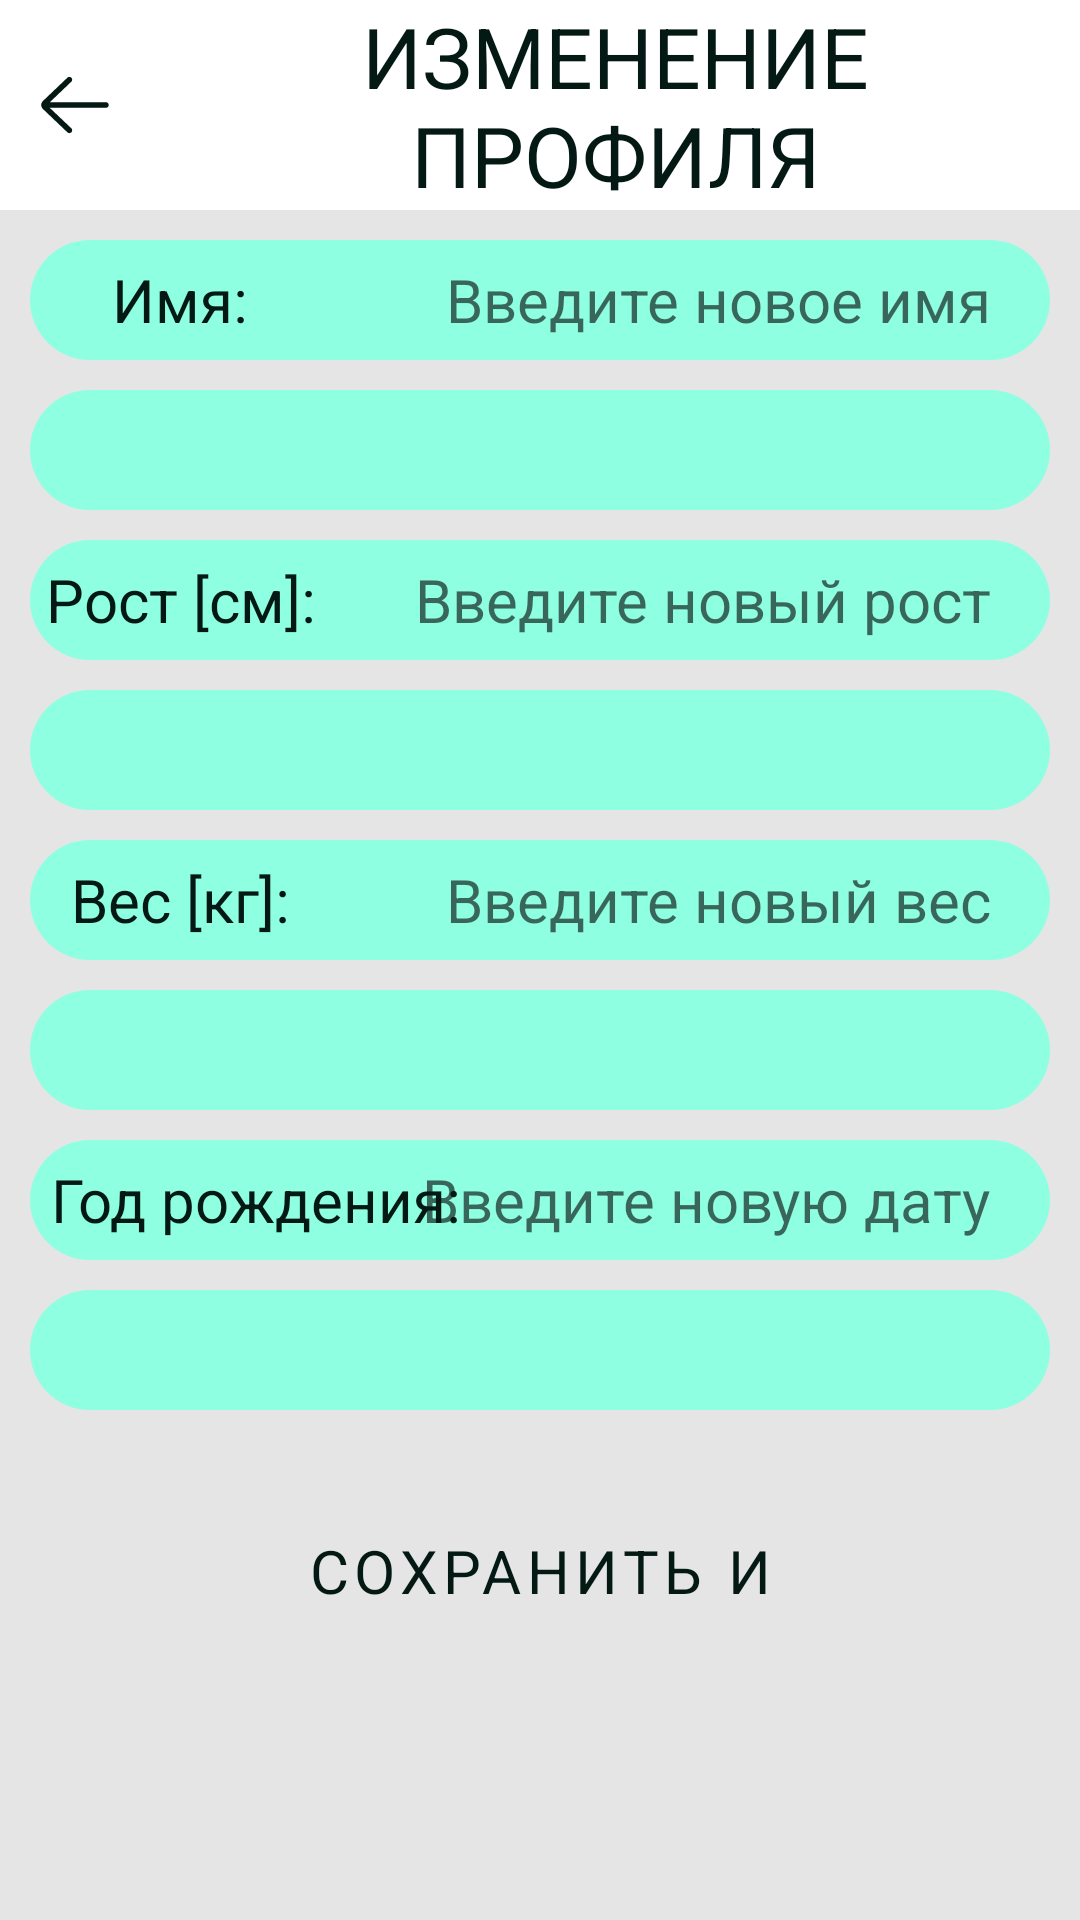

Icons on this 1080x1920 Android screen, each with its box as (x1=x1, y1=y1, x2=x2, y2=y2):
left arrow: (x1=41, y1=77, x2=109, y2=133)
